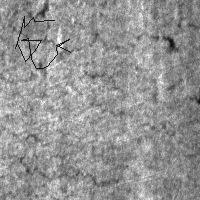crazing: (1, 21, 153, 76), (18, 130, 122, 186), (131, 17, 194, 106), (15, 16, 70, 68)
